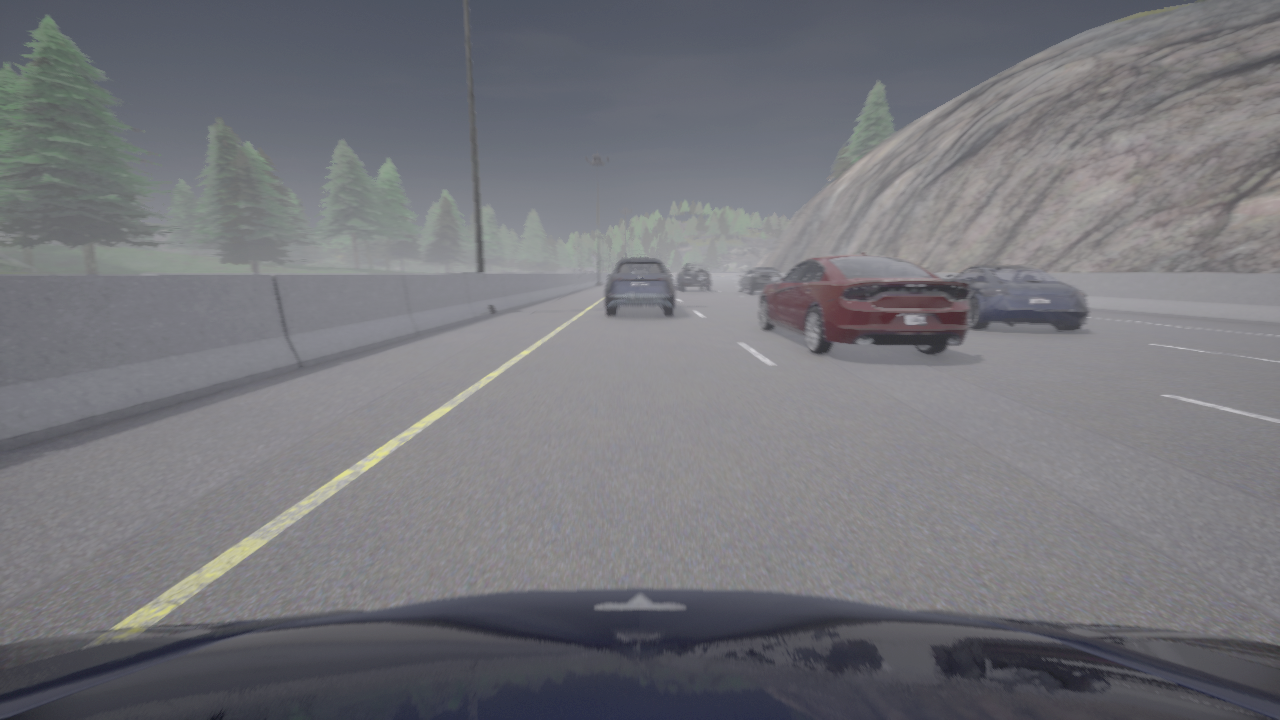cyclist: (0, 588, 1279, 719), (759, 251, 969, 354), (944, 265, 1088, 330), (605, 257, 674, 315), (737, 267, 782, 294), (676, 265, 710, 290)
